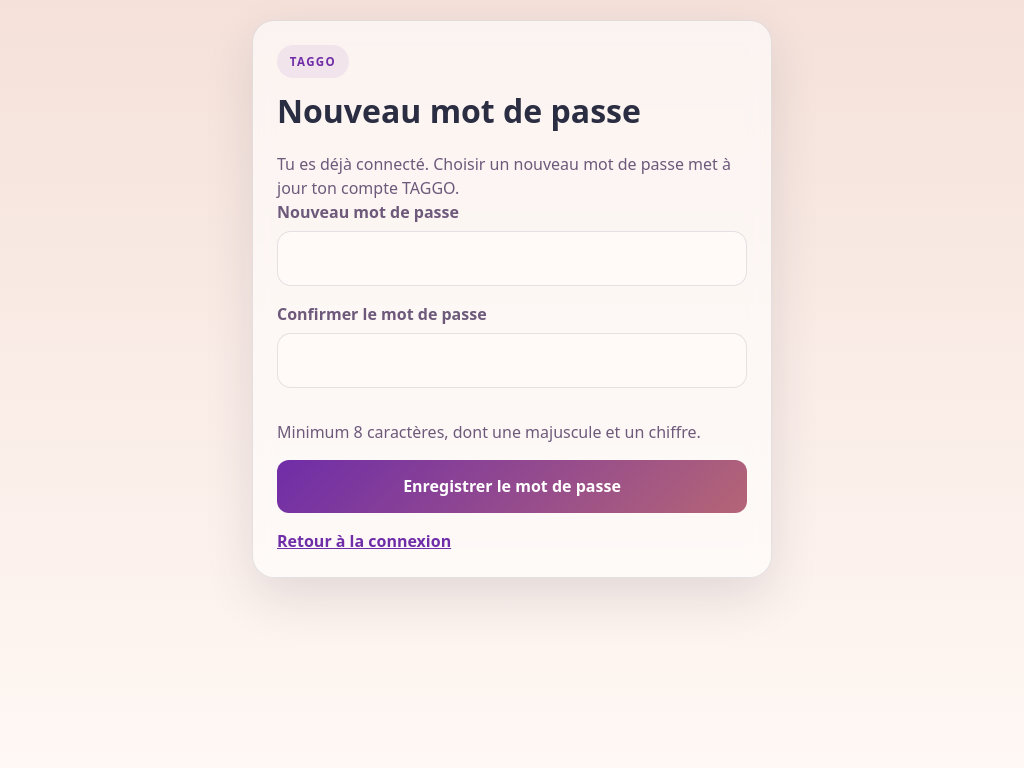
/reset-password › refuse une confirmation différente sans appeler Supabase
The width and height of the screenshot is (1024, 768).
Type "NewStrong123!" into the password field labelled "Nouveau mot de passe" at (512, 258), box [277,231,747,286]
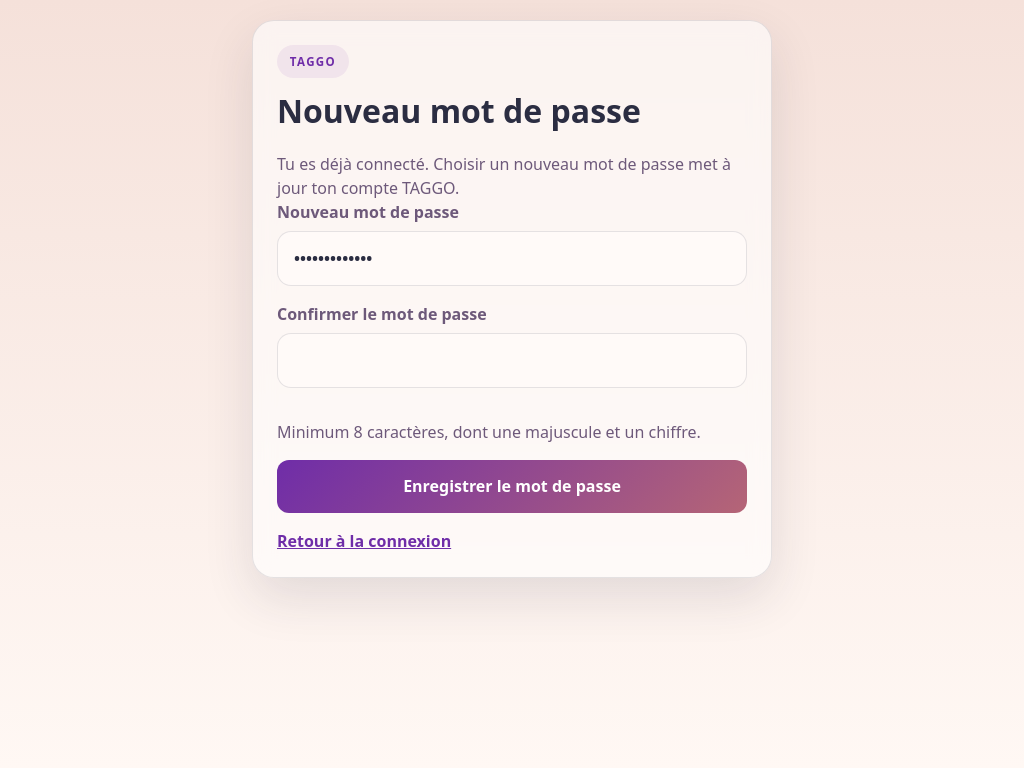
Type "OtherStrong123!" into the password field labelled "Confirmer le mot de passe" at (512, 360), box [277,333,747,388]
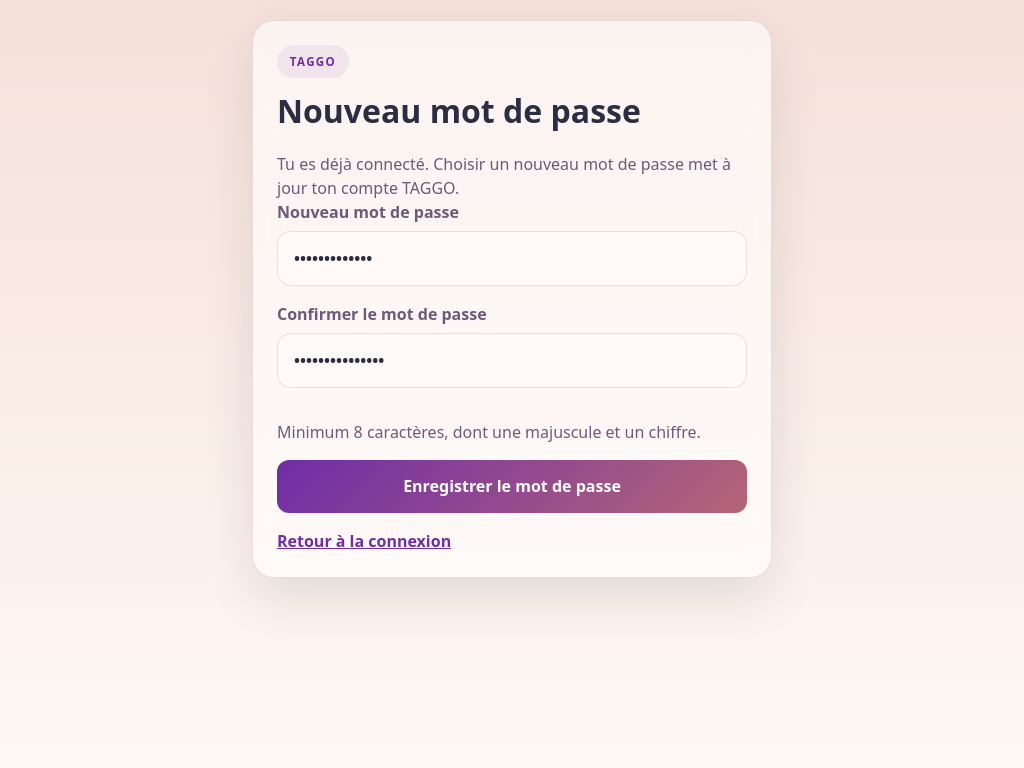
Submit the form named "Enregistrer le mot de passe", box [277,200,747,512]
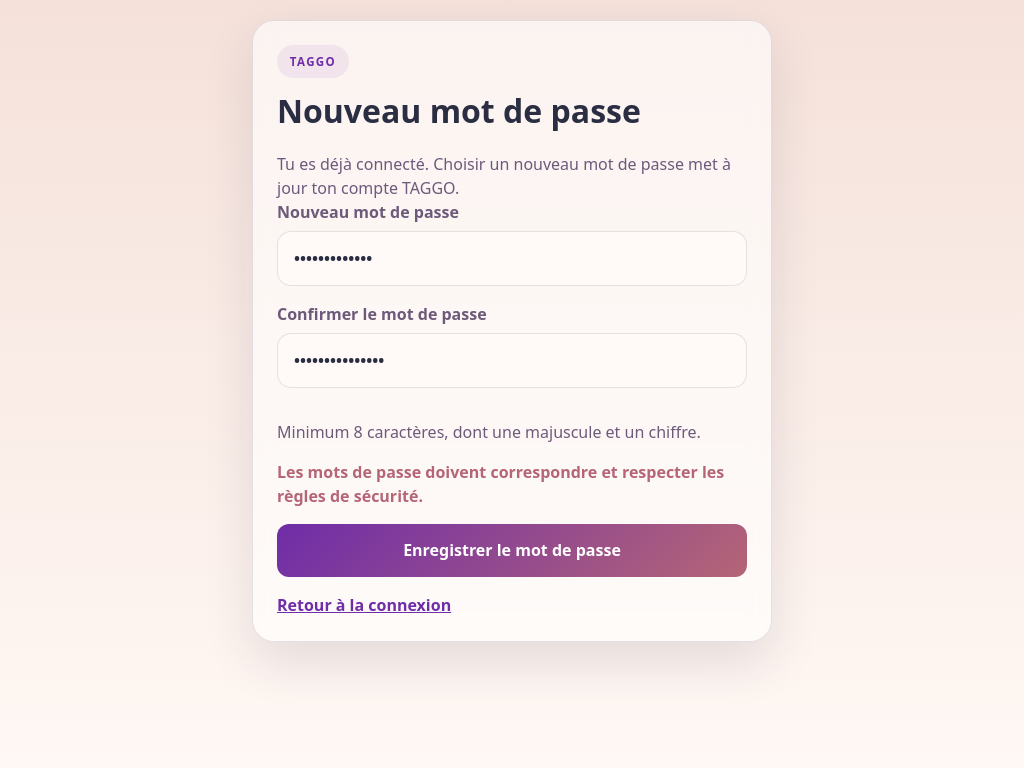
Now the message shows "doivent correspondre", box [277,461,724,507]
